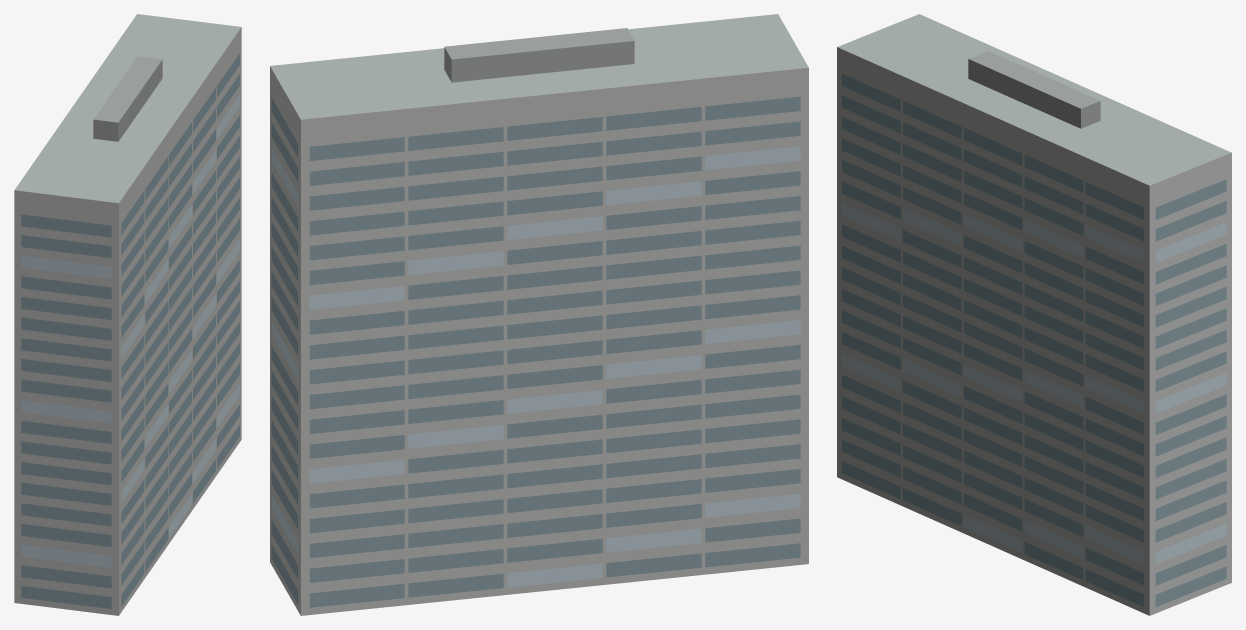
Rendered from fallback-sk-bukhansan-city-140.glb.
The picture shows the model from 3 angles, left to right: view 1: azimuth 30°, elevation 25°; view 2: azimuth 150°, elevation 25°; view 3: azimuth 270°, elevation 25°; orthographic projection. The views are drawn at different scales.
Parts seen in each view (by area): view 1: fallback-sk-bukhansan-city-140; view 2: fallback-sk-bukhansan-city-140; view 3: fallback-sk-bukhansan-city-140.
Boxes of the visible parts, box(x1,y1,x2,y2) form: fallback-sk-bukhansan-city-140: box(14, 14, 241, 615); fallback-sk-bukhansan-city-140: box(270, 14, 808, 615); fallback-sk-bukhansan-city-140: box(837, 14, 1231, 615).
Bounding box in the file's own units: 44.18 × 54 × 42.9.
